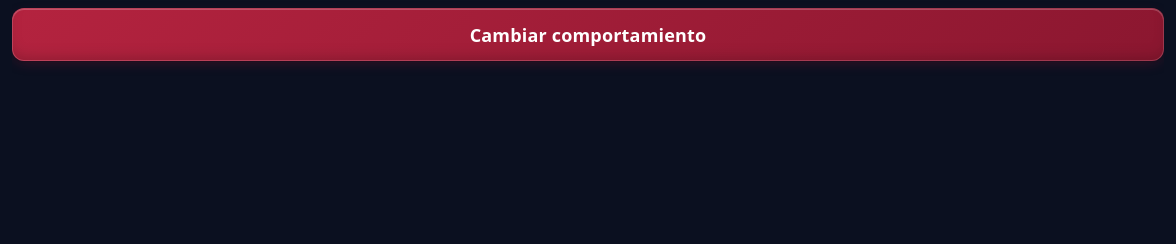
Test: BehaviorSelector › Debería informar el error y conservar el comportamiento anterior si el back rechaza el cambio
Click the button "Cambiar comportamiento" at coordinates (588, 35), box [12, 8, 1164, 61]
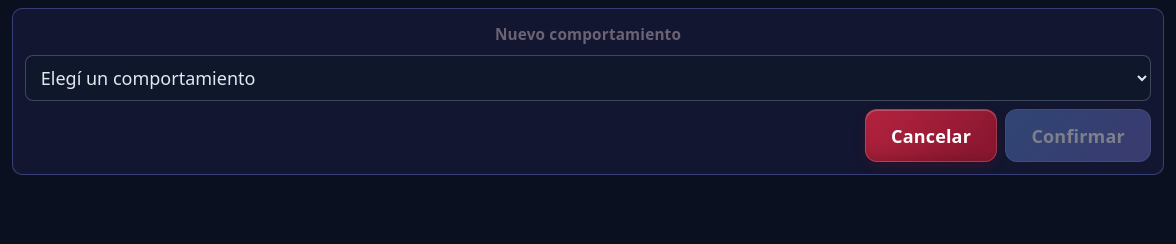
Select "Mi delantero" in the dropdown at coordinates (588, 78), box [25, 55, 1151, 101]
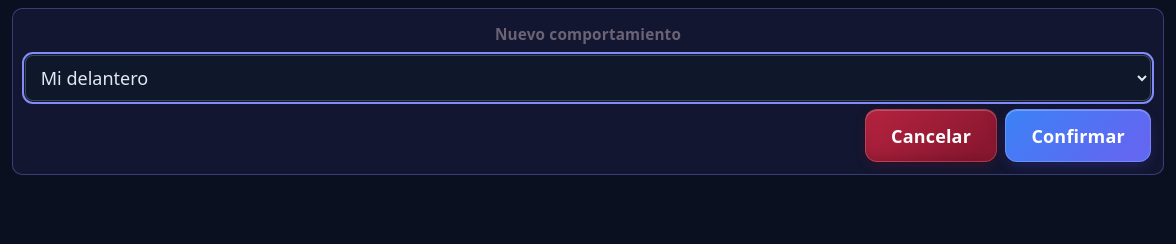
Click the button "Confirmar" at coordinates (1078, 136), box [1005, 109, 1151, 162]
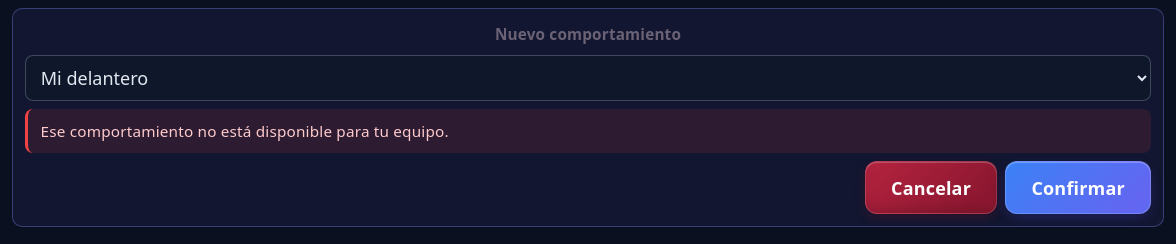
Check: the message reads "Ese comportamiento no está disponible para tu equipo.", box [41, 121, 449, 141]
